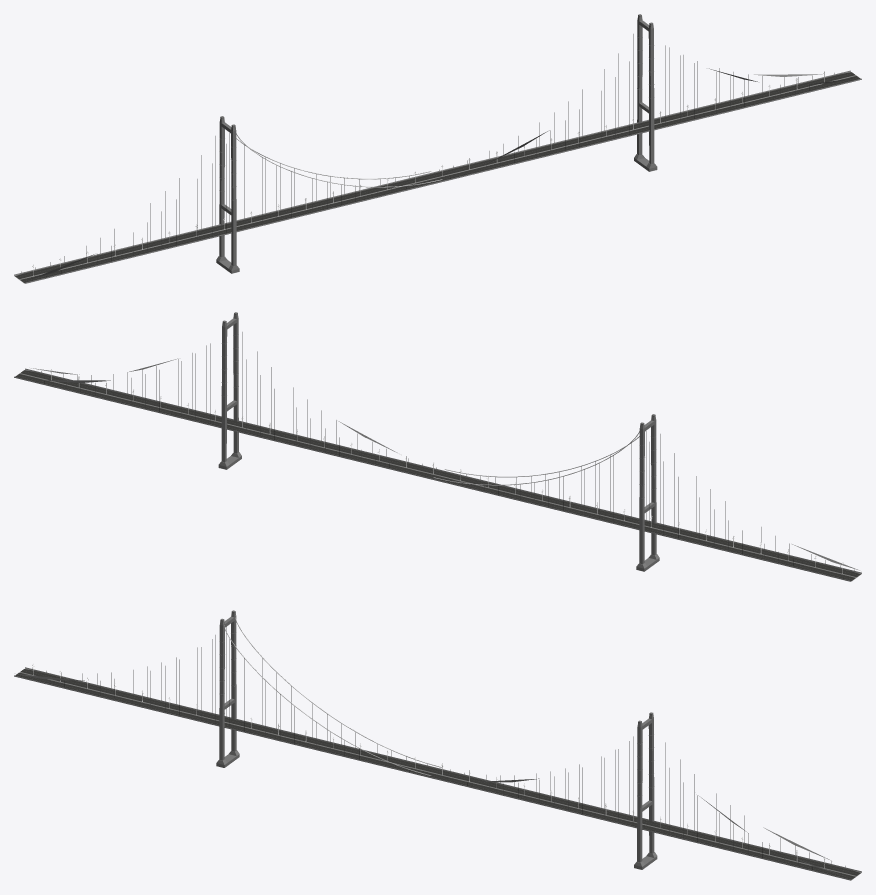
File: bridge.glb
The picture shows the model from 3 angles, top to bottom: view 1: azimuth 30°, elevation 25°; view 2: azimuth 150°, elevation 25°; view 3: azimuth 330°, elevation 25°; orthographic projection.
Parts seen in each view (by area): view 1: deck_surface, object 2, object 3, object 1; view 2: deck_surface, object 2, object 3, object 1; view 3: deck_surface, object 2, object 3, object 1.
Boxes of the visible parts, box(x1,y1,x2,y2) form: deck_surface: box(15, 72, 860, 282); object 2: box(14, 14, 861, 283); object 3: box(21, 34, 845, 280); object 1: box(230, 133, 442, 187); deck_surface: box(15, 370, 860, 580); object 2: box(14, 312, 861, 581); object 3: box(30, 332, 854, 578); object 1: box(433, 431, 645, 485); deck_surface: box(15, 669, 860, 879); object 2: box(14, 610, 861, 880); object 3: box(21, 627, 845, 875); object 1: box(224, 615, 441, 775).
Size of the model in its own units: 239 by 39.89 by 7.51.
6 materials, 2 textured.
